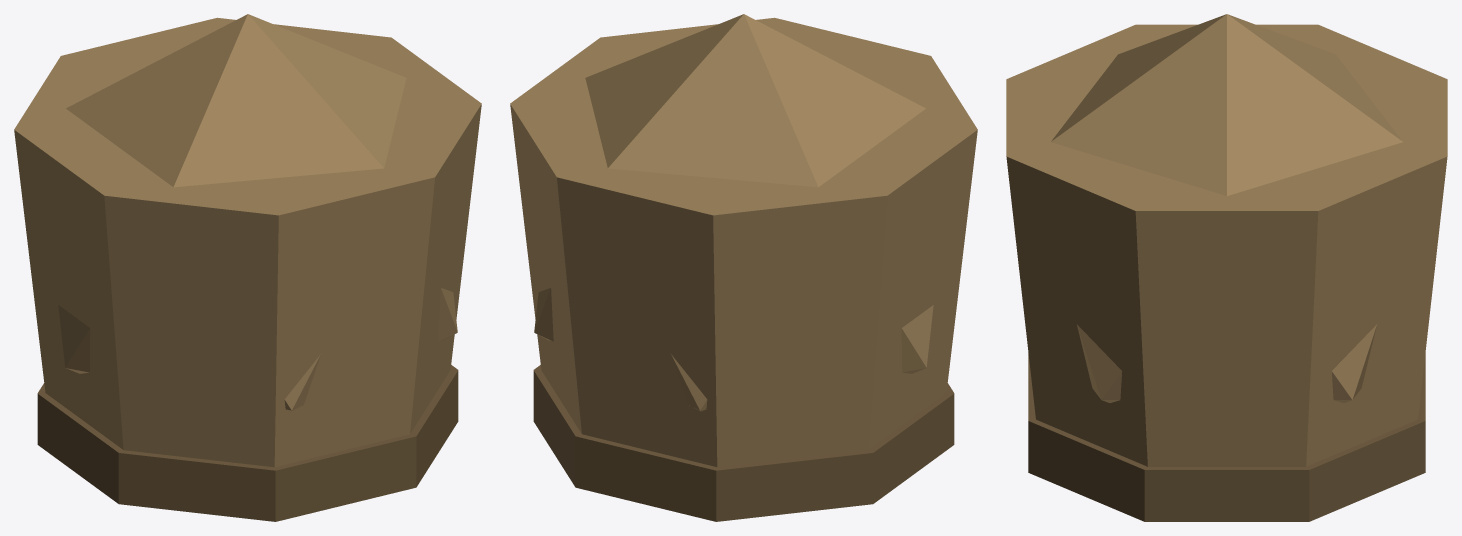
File: inf_walker_upper_arm_r.fbx
The picture shows the model from 3 angles, left to right: view 1: azimuth 30°, elevation 25°; view 2: azimuth 150°, elevation 25°; view 3: azimuth 270°, elevation 25°; orthographic projection.
Visible parts, largest first — view 1: inf_walker_upper_arm_r; view 2: inf_walker_upper_arm_r; view 3: inf_walker_upper_arm_r.
Boxes of the visible parts, x1,y1,x2,y2 form: inf_walker_upper_arm_r: (14, 14, 481, 521); inf_walker_upper_arm_r: (510, 14, 977, 521); inf_walker_upper_arm_r: (1006, 14, 1447, 521).
Bounding box in the file's own units: 92.39 × 100 × 92.39.
